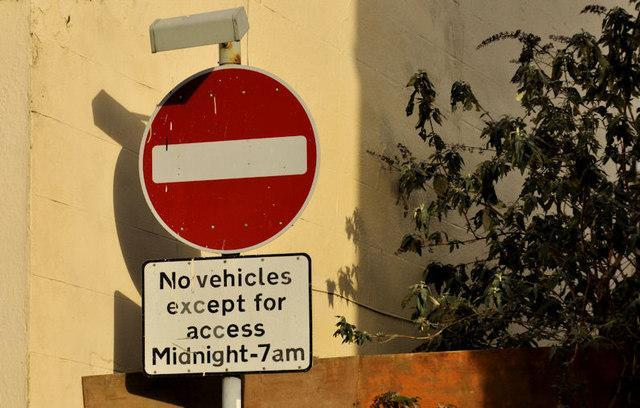B2: (136, 63, 320, 254)
